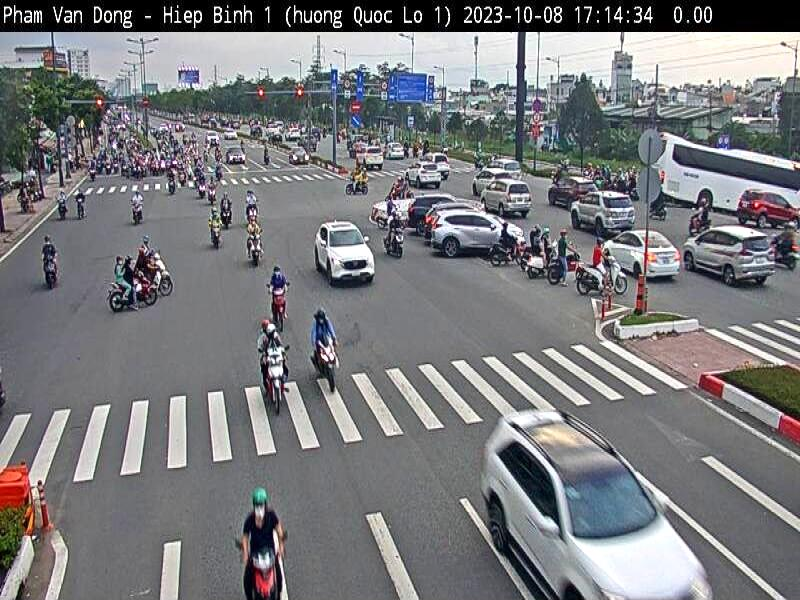bus: (658, 132, 800, 215)
car: (685, 227, 780, 288), (602, 228, 681, 284), (314, 219, 377, 289), (430, 216, 528, 259), (571, 190, 638, 238)
motorcycle: (107, 273, 156, 312), (154, 254, 176, 300)
